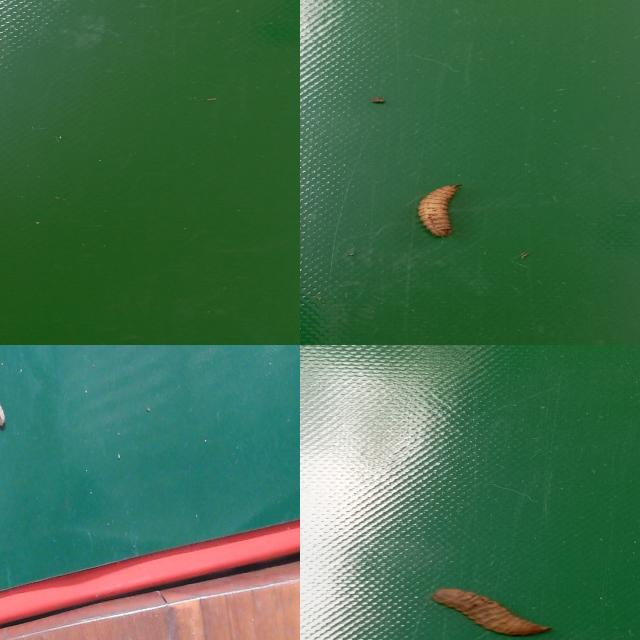Maggot: (432, 589, 552, 637), (415, 185, 459, 239), (0, 396, 8, 431)
